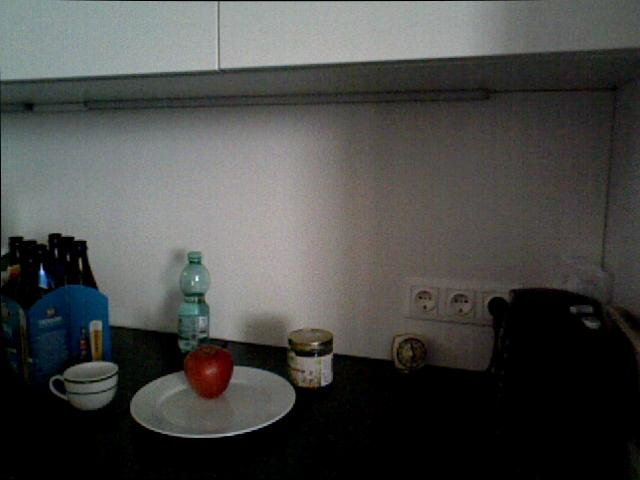bench: (176, 250, 210, 353), (27, 243, 53, 305), (70, 239, 96, 290), (58, 233, 77, 282), (22, 240, 37, 291), (5, 234, 21, 279), (73, 325, 91, 363), (49, 232, 60, 261)
bicycle: (183, 344, 233, 399)
giraffe: (389, 326, 431, 373)
handbag: (48, 360, 119, 411)
